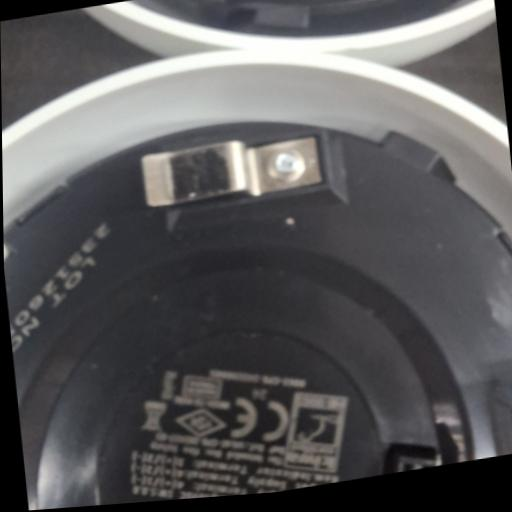yaysiz: (139, 125, 326, 215)
